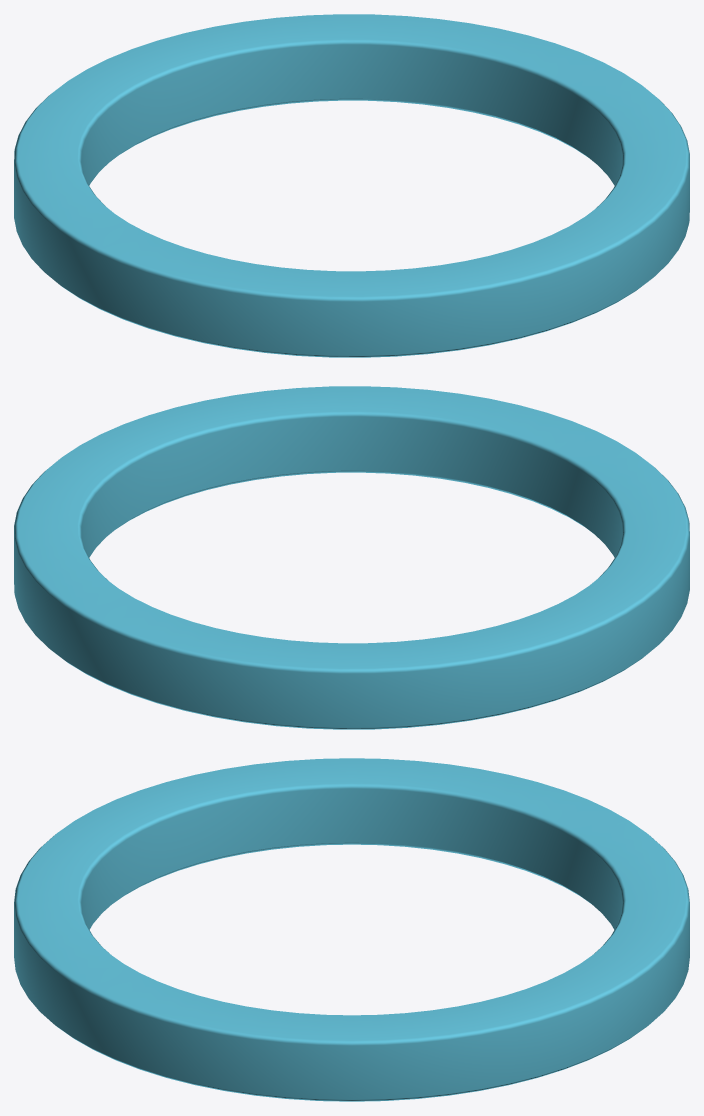
3 renders of one model, top to bottom at view 1: azimuth 30°, elevation 25°; view 2: azimuth 150°, elevation 25°; view 3: azimuth 270°, elevation 25°, orthographic.
Visible parts, largest first — view 1: seal_body; view 2: seal_body; view 3: seal_body.
Boxes of the visible parts, x1,y1,x2,y2 form: seal_body: (14,14,689,357); seal_body: (14,386,689,729); seal_body: (14,758,689,1101).
Size of the model in its own units: 0.1 by 0.01 by 0.1.
